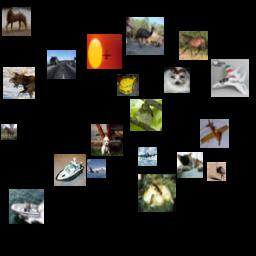airplane: (211, 59, 249, 97), (87, 34, 122, 69), (200, 119, 229, 148), (138, 147, 157, 166), (87, 159, 106, 178)
automobile: (117, 74, 139, 96)
bird: (126, 17, 164, 55), (130, 99, 162, 131), (207, 162, 226, 181)
cat: (177, 152, 203, 178)
deer: (138, 174, 176, 212), (3, 67, 35, 99)
dog: (91, 124, 123, 156), (164, 67, 190, 93)
ship: (9, 189, 44, 224), (54, 154, 86, 186)
truck: (47, 50, 76, 79)
